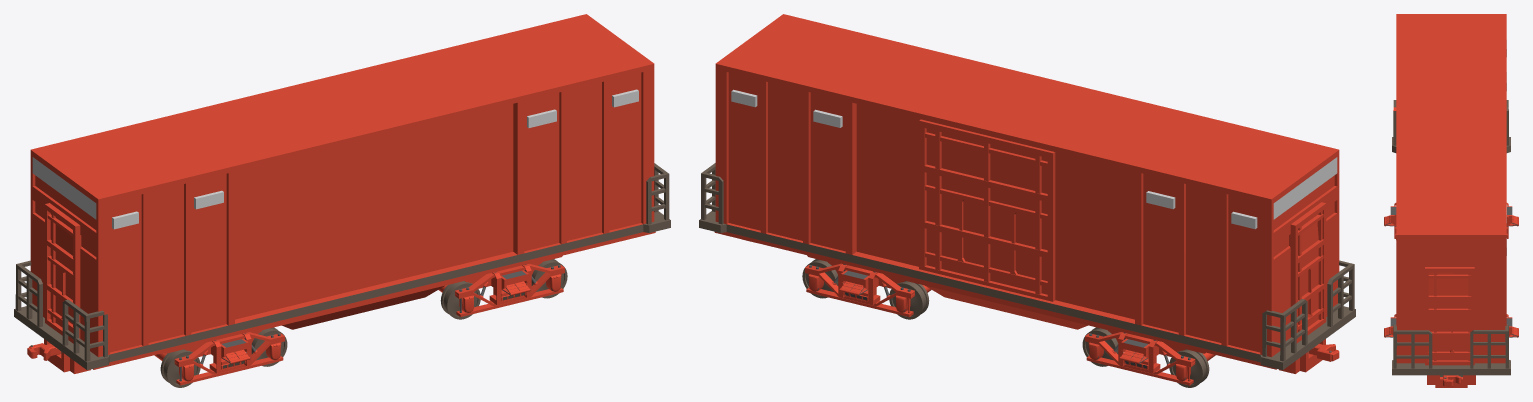
The model's file is trainBoxcarFrontBackDoors.fbx.
The picture shows the model from 3 angles, left to right: view 1: azimuth 30°, elevation 25°; view 2: azimuth 150°, elevation 25°; view 3: azimuth 270°, elevation 25°; orthographic projection. The views are drawn at different scales.
Parts seen in each view (by area): view 1: Train Boxcar, Door Back; view 2: Train Boxcar, Door Back; view 3: Train Boxcar, Door Front.
Part boxes in pixels (x1=…): Train Boxcar: x1=14, y1=14, x2=670, y2=387; Door Back: x1=45, y1=203, x2=81, y2=344; Train Boxcar: x1=699, y1=14, x2=1355, y2=387; Door Back: x1=1290, y1=202, x2=1326, y2=343; Train Boxcar: x1=1384, y1=14, x2=1518, y2=387; Door Front: x1=1425, y1=267, x2=1474, y2=365.
Size of the model in its own units: 1475 by 345 by 494.
